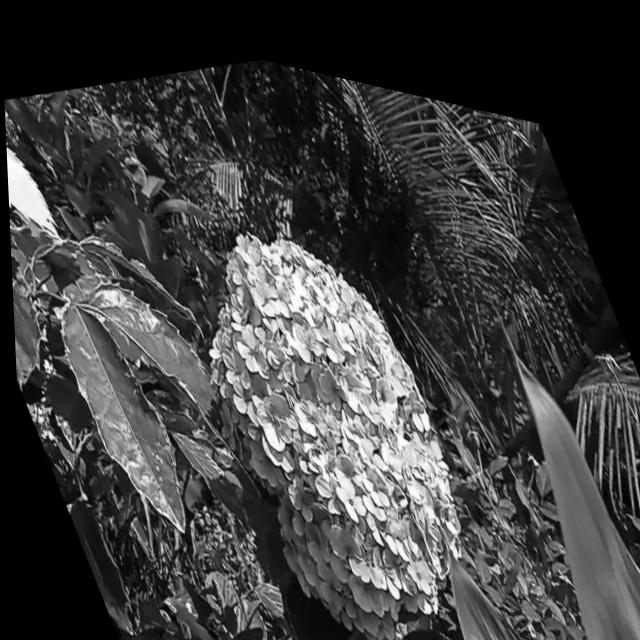Flower: (149, 159, 502, 640)
